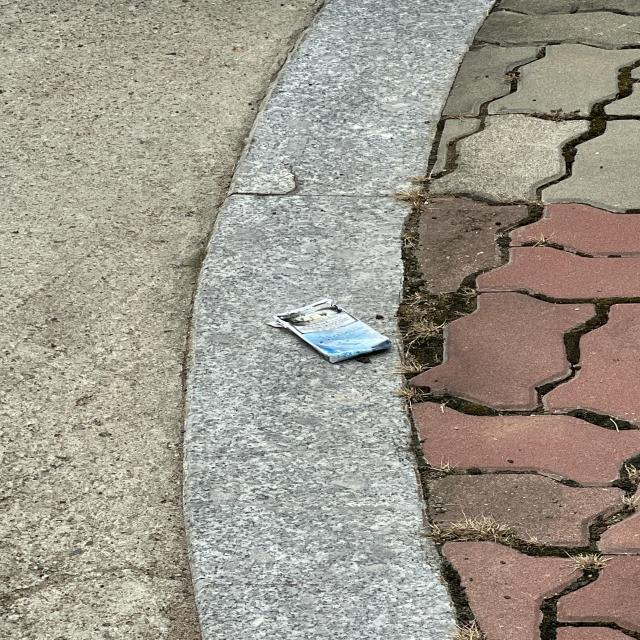litter: (266, 299, 391, 363)
